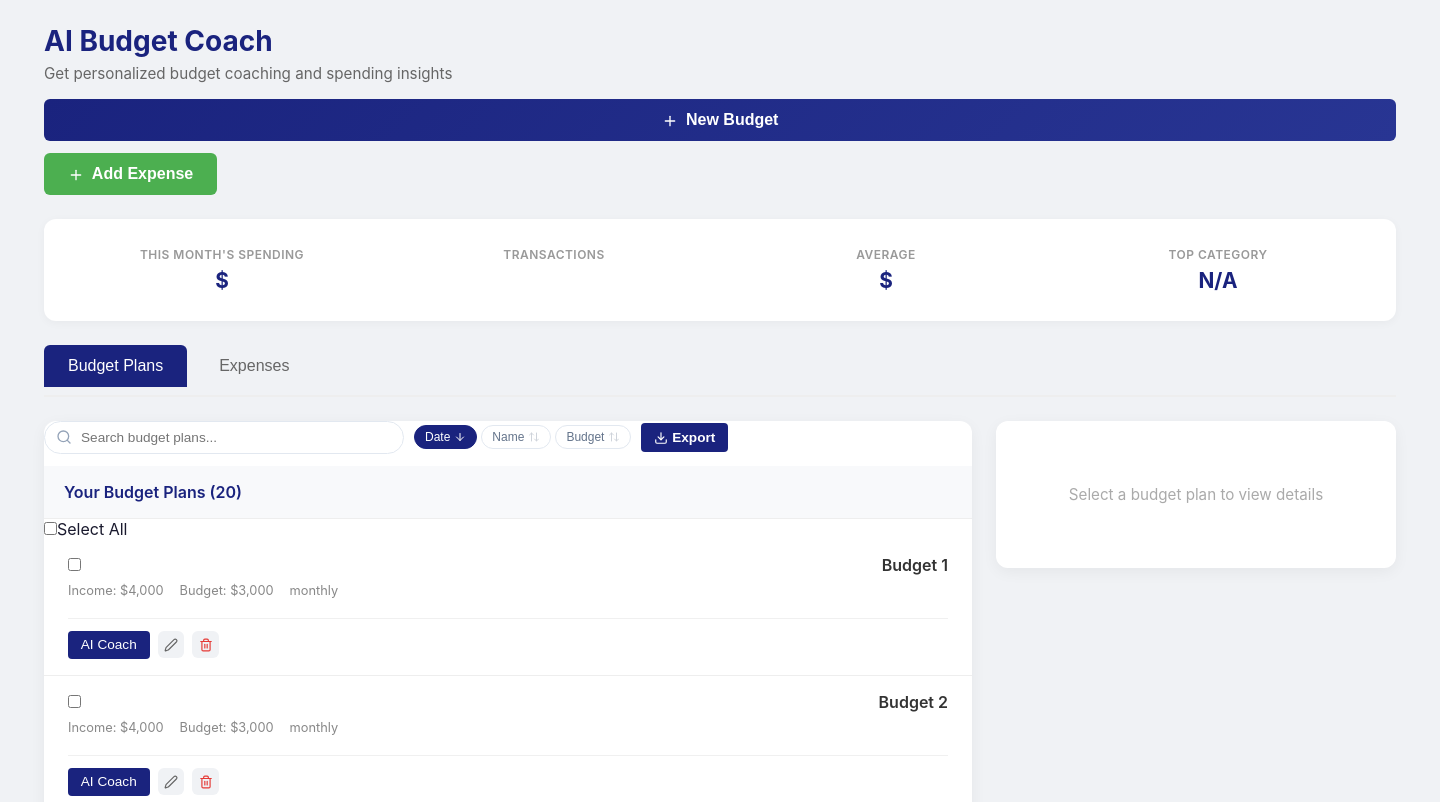
Test: record list accepts paginated data and renders twenty real fixture cards on both tabs
The image size is (1440, 802).
Click the button "Expenses".
click(254, 366)  # box [195, 345, 314, 387]
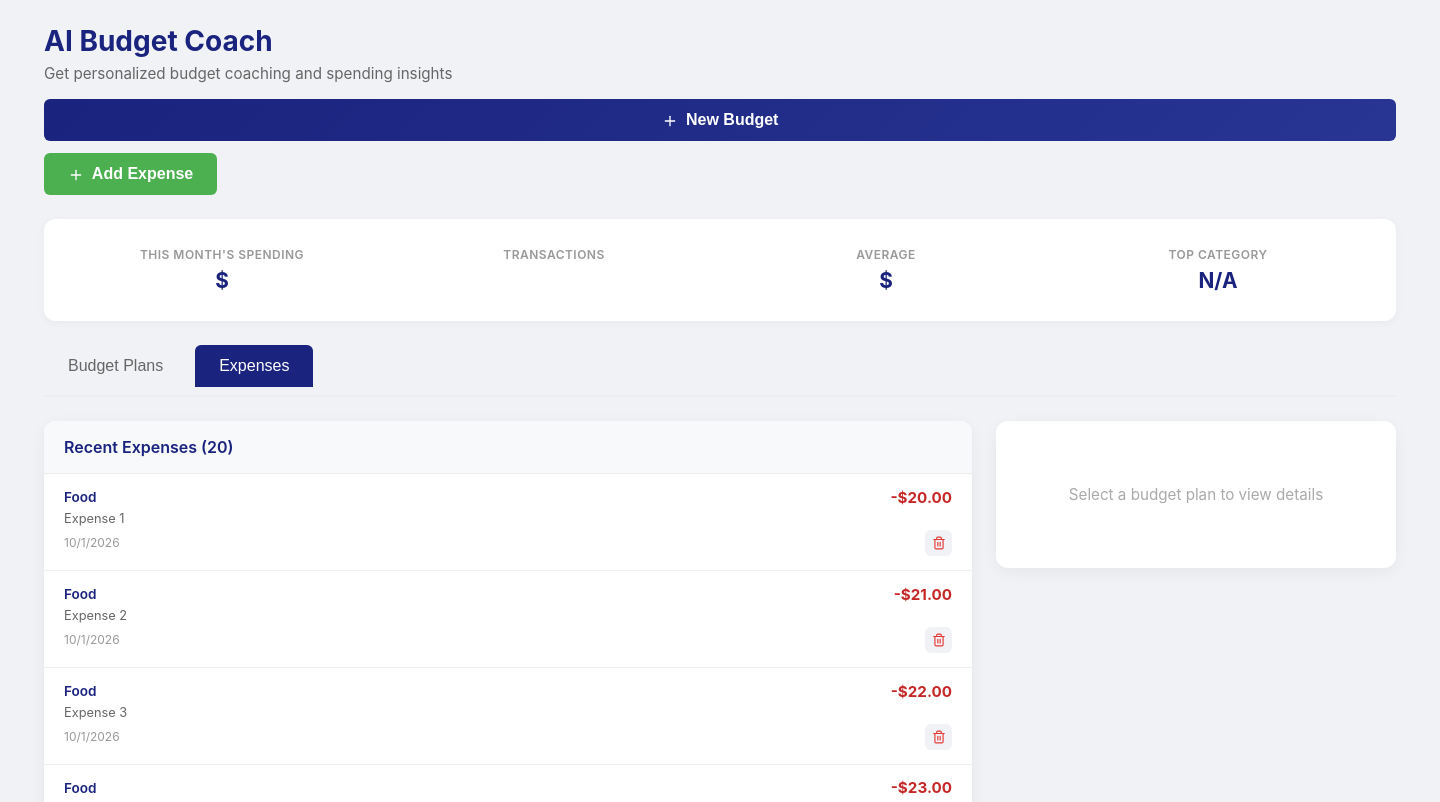
Expected: the number of elements with class "expense-card" is 20
